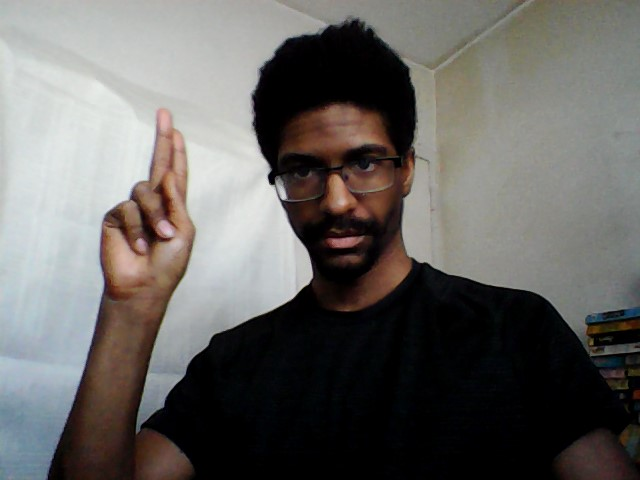k: (95, 103, 201, 299)
